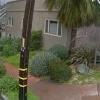Palm tree: (50, 0, 95, 52)
